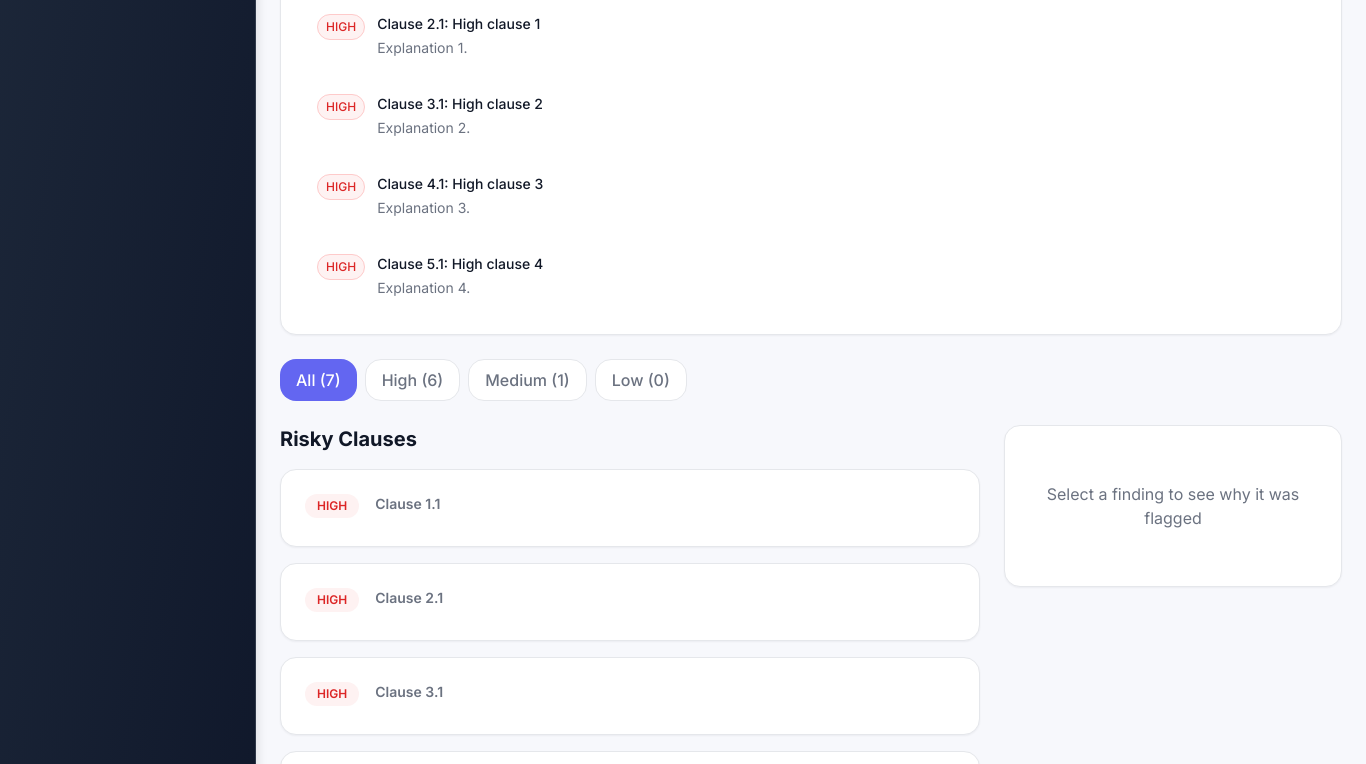
Test: ReportView › high chip with 6 high findings shows "Show all 6" button
(page scrolled)
# Click High filter
Click the button "High (6)": click(412, 380) 365,359 -> 460,401
(page scrolled)
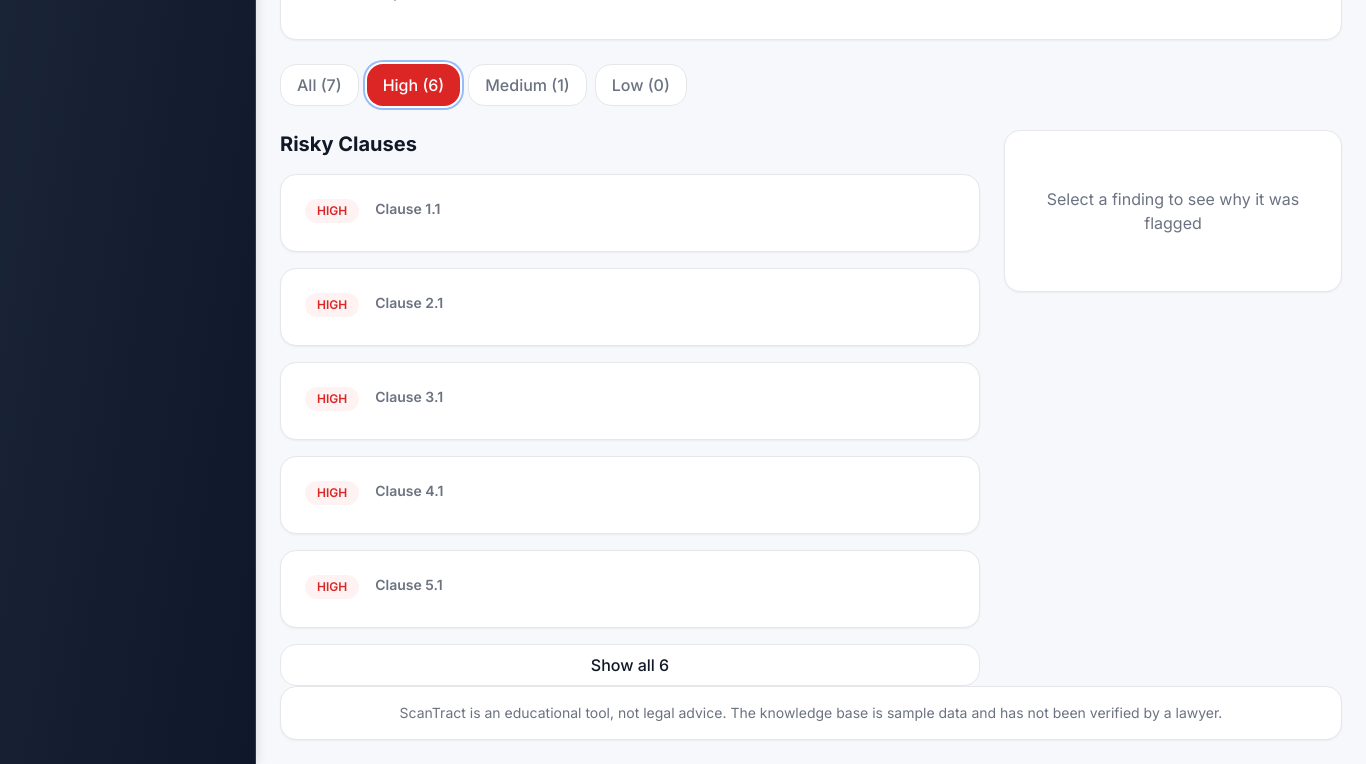
Expected: the number of elements with test id "finding-card" is 5, 280,174 -> 980,252; 280,268 -> 980,346; 280,362 -> 980,440; 280,456 -> 980,534; 280,550 -> 980,628
Result: the button "Show all 6" is shown at 280,644 -> 980,686
